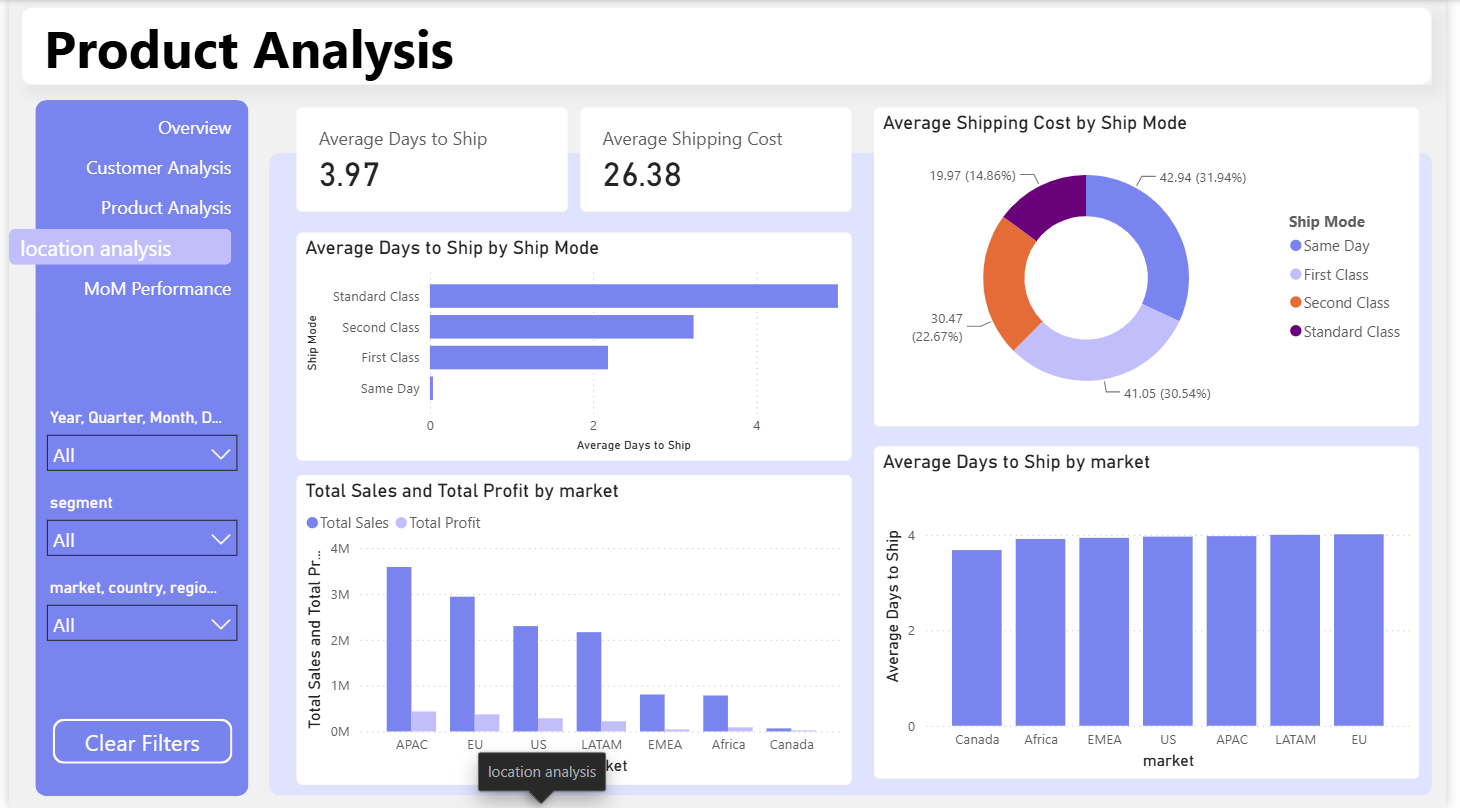

The page's visual inventory and layout, read from the dashboard file:
{"tool":"powerbi","page":{"name":"location analysis","canvas":[1280,720],"ordinal":3},"visuals":[{"type":"shape","box":[22.9,88.6,190,620],"z":0},{"type":"shape","box":[11.4,7.1,1255.7,68.6],"z":1000},{"type":"shape","box":[231.4,135.7,1035.7,572.9],"z":2000},{"type":"slicer","fields":{"Values":["dim_customer.segment"]},"box":[22.9,434.3,190,75.7],"z":3000},{"type":"slicer","fields":{"Values":["dim_location.market Hierarchy.market","dim_location.market Hierarchy.country","dim_location.market Hierarchy.region","dim_location.market Hierarchy.state","dim_location.market Hierarchy.city"]},"box":[22.9,510,190,80],"z":4000},{"type":"slicer","fields":{"Values":["dim_date.Date.Variation.Date Hierarchy.Year","dim_date.Date.Variation.Date Hierarchy.Quarter","dim_date.Date.Variation.Date Hierarchy.Month","dim_date.Date.Variation.Date Hierarchy.Day"]},"box":[22.9,358.6,190,75.7],"z":5000},{"type":"actionButton","box":[38.6,640,160,40],"z":6000},{"type":"cardVisual","fields":{"Data":["_measure.avrage_days_to_ship"]},"box":[255.7,95.7,241.4,92.9],"z":7000},{"type":"cardVisual","fields":{"Data":["_measure.avrage_sipping_cost"]},"box":[508.6,95.7,241.4,92.9],"z":8000},{"type":"donutChart","fields":{"Category":["dim_order_details.ship_mode"],"Y":["_measure.avrage_sipping_cost"]},"box":[770,95.7,485.7,284.3],"z":9000},{"type":"barChart","fields":{"Category":["dim_order_details.ship_mode"],"Y":["_measure.avrage_days_to_ship"]},"box":[255.7,207.1,494.3,202.9],"z":10000},{"type":"columnChart","fields":{"Category":["dim_location.market Hierarchy.market","dim_location.market Hierarchy.country","dim_location.market Hierarchy.region","dim_location.market Hierarchy.state","dim_location.market Hierarchy.city"],"Y":["_measure.avrage_days_to_ship"]},"box":[770,397.1,485.7,295.7],"z":11000},{"type":"clusteredColumnChart","fields":{"Category":["dim_location.market Hierarchy.market","dim_location.market Hierarchy.country","dim_location.market Hierarchy.region","dim_location.market Hierarchy.state","dim_location.market Hierarchy.city"],"Y":["_measure.total_sales","_measure.total_profit"]},"box":[255.7,422.9,494.3,275.7],"z":12000},{"type":"pageNavigator","box":[0,95.7,198.6,180],"z":13000}]}

Visuals, with their boxes in screenshot pixels (x1, y1, x2, y2), scaled from the page's 1280x720 canvas onto the 1460x808 screenshot:
shape: (left=26, top=99, right=243, bottom=795)
shape: (left=13, top=8, right=1445, bottom=85)
shape: (left=264, top=152, right=1445, bottom=795)
slicer - dim_customer.segment: (left=26, top=487, right=243, bottom=572)
slicer - dim_location.market Hierarchy.market x dim_location.market Hierarchy.country: (left=26, top=572, right=243, bottom=662)
slicer - dim_date.Date.Variation.Date Hierarchy.Year x dim_date.Date.Variation.Date Hierarchy.Quarter: (left=26, top=402, right=243, bottom=487)
actionButton: (left=44, top=718, right=227, bottom=763)
cardVisual - _measure.avrage_days_to_ship: (left=292, top=107, right=567, bottom=212)
cardVisual - _measure.avrage_sipping_cost: (left=580, top=107, right=855, bottom=212)
donutChart - dim_order_details.ship_mode x _measure.avrage_sipping_cost: (left=878, top=107, right=1432, bottom=426)
barChart - dim_order_details.ship_mode x _measure.avrage_days_to_ship: (left=292, top=232, right=855, bottom=460)
columnChart - dim_location.market Hierarchy.market x dim_location.market Hierarchy.country: (left=878, top=446, right=1432, bottom=777)
clusteredColumnChart - dim_location.market Hierarchy.market x dim_location.market Hierarchy.country: (left=292, top=475, right=855, bottom=784)
pageNavigator: (left=0, top=107, right=227, bottom=309)
